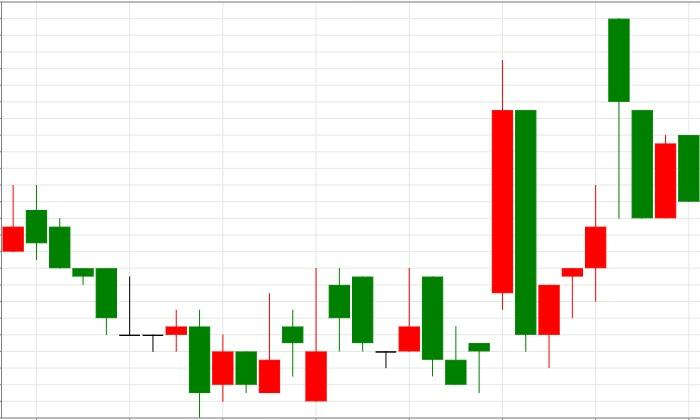bullish_engulfing_rise: (26, 184, 211, 418)
three_white_soldiers_rise: (491, 59, 606, 368)
